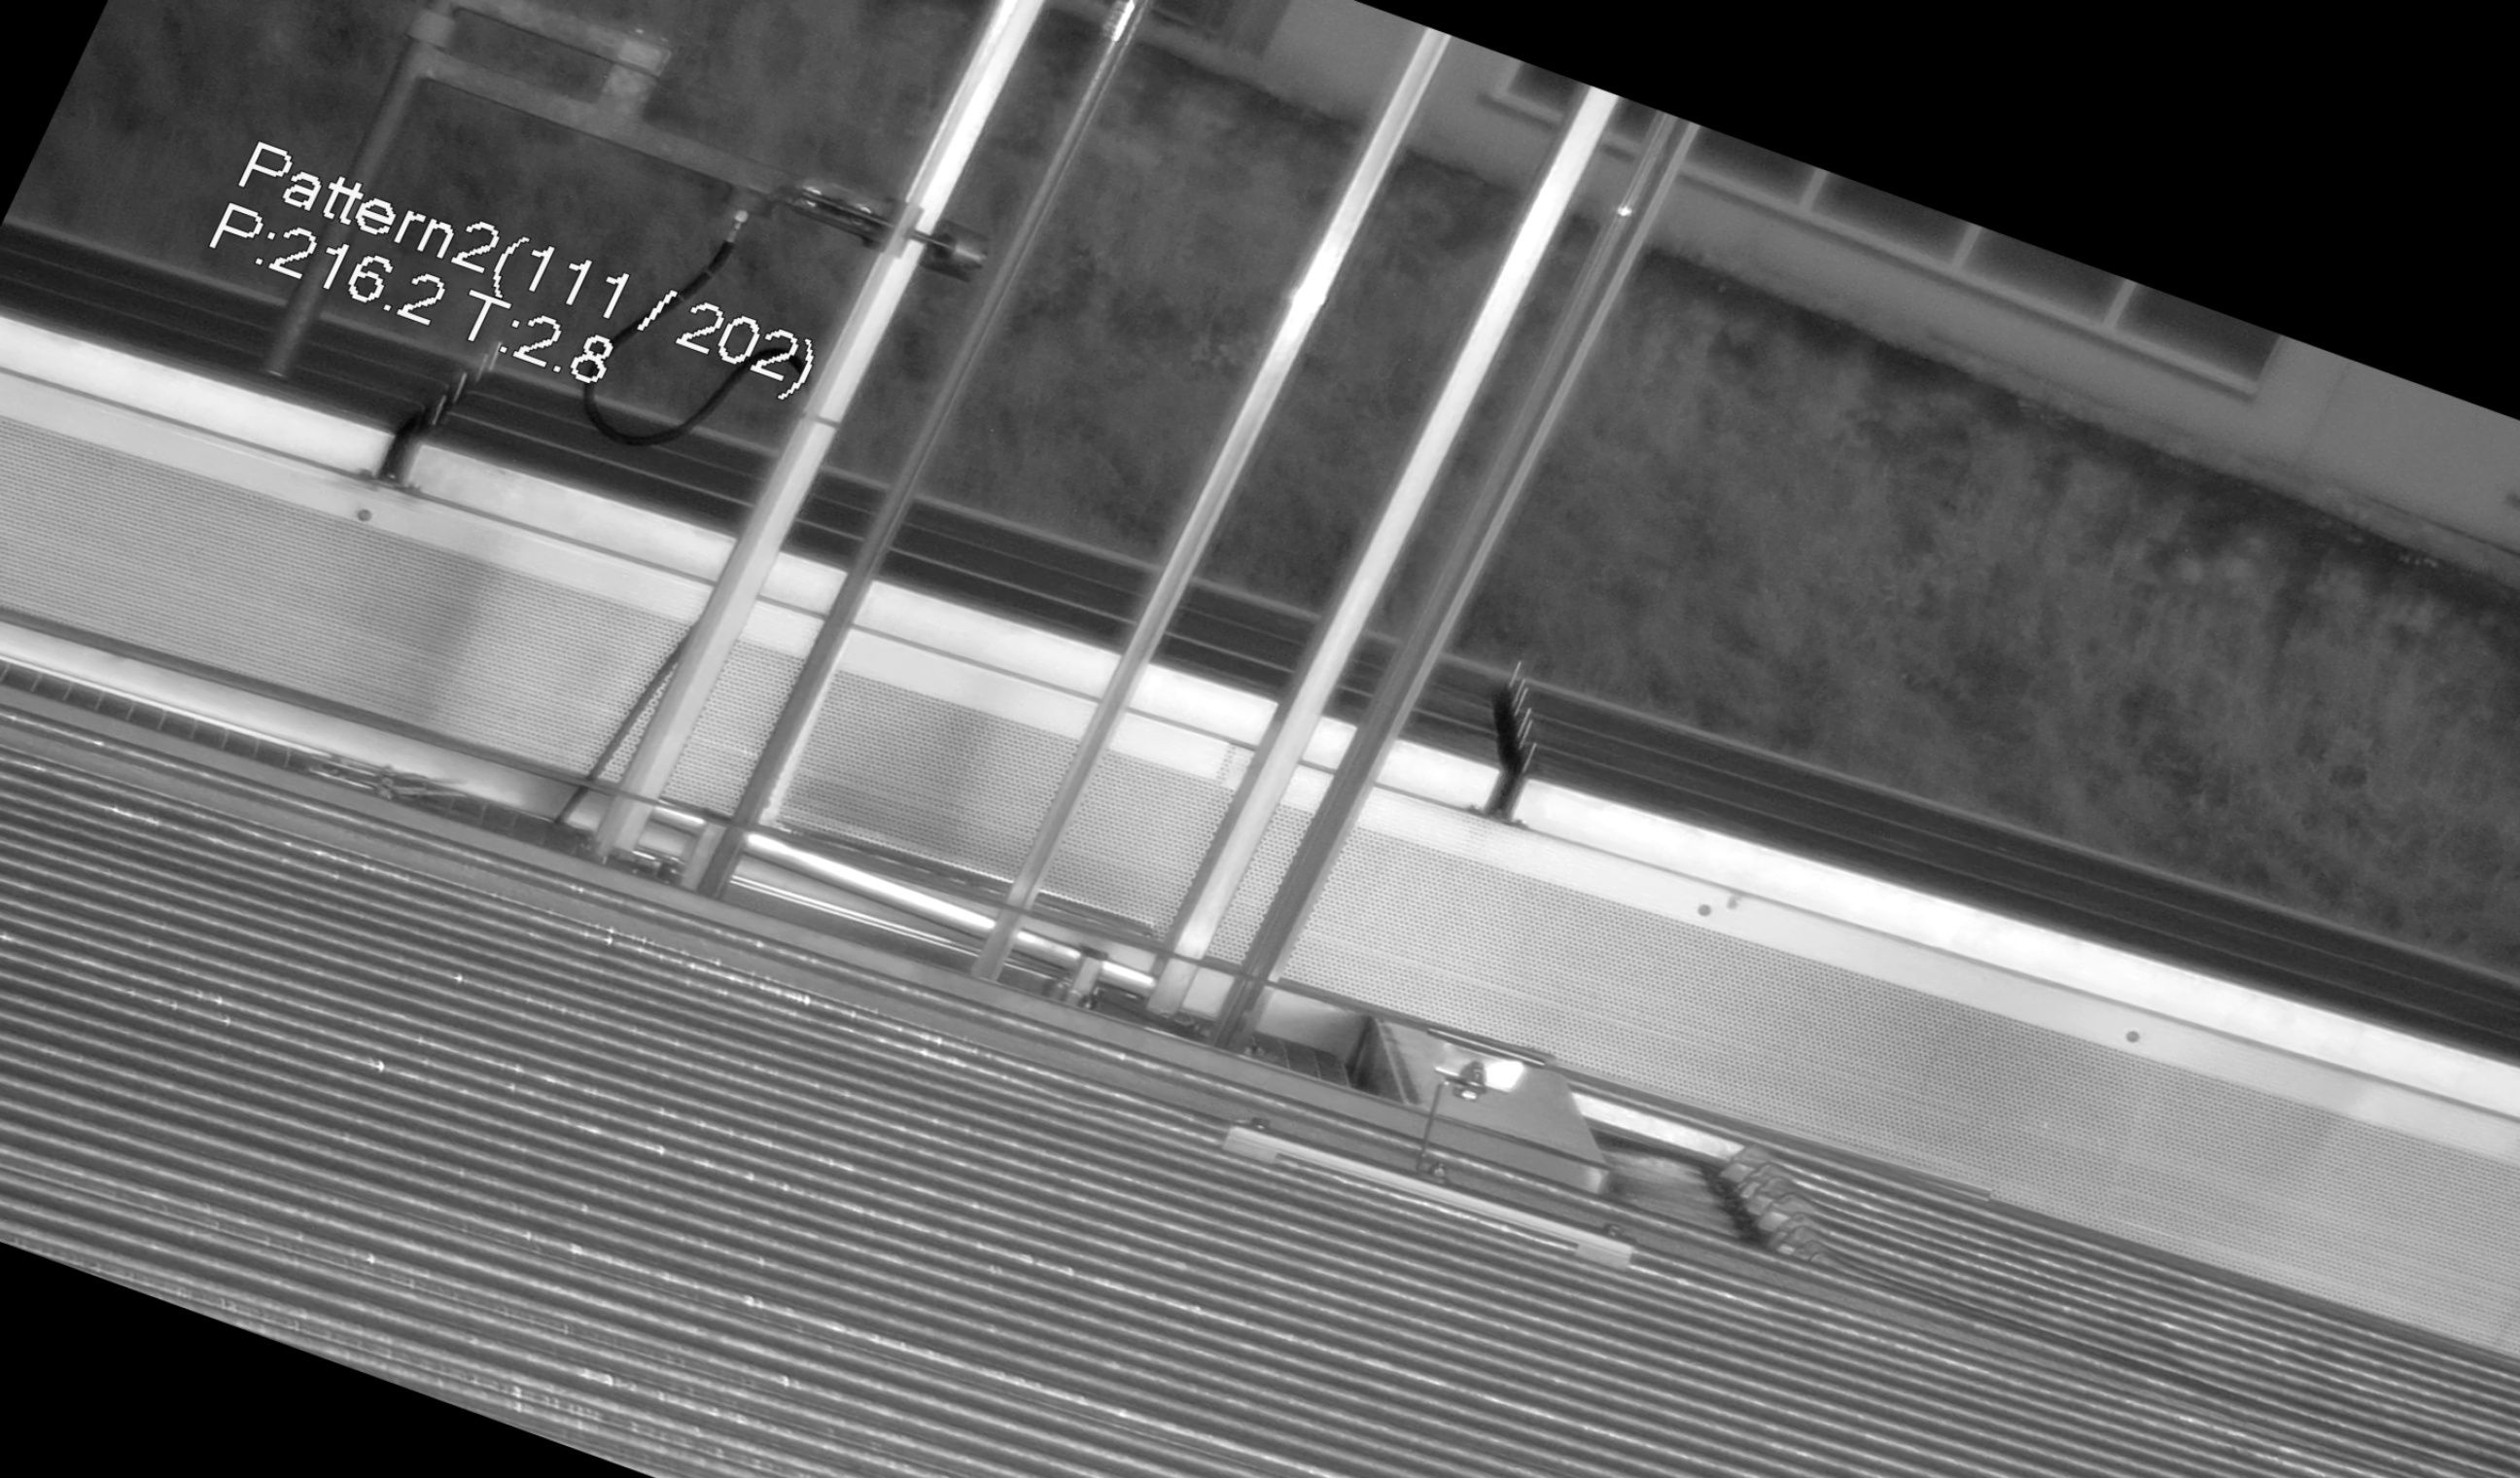Other: (1423, 639, 1604, 836)
